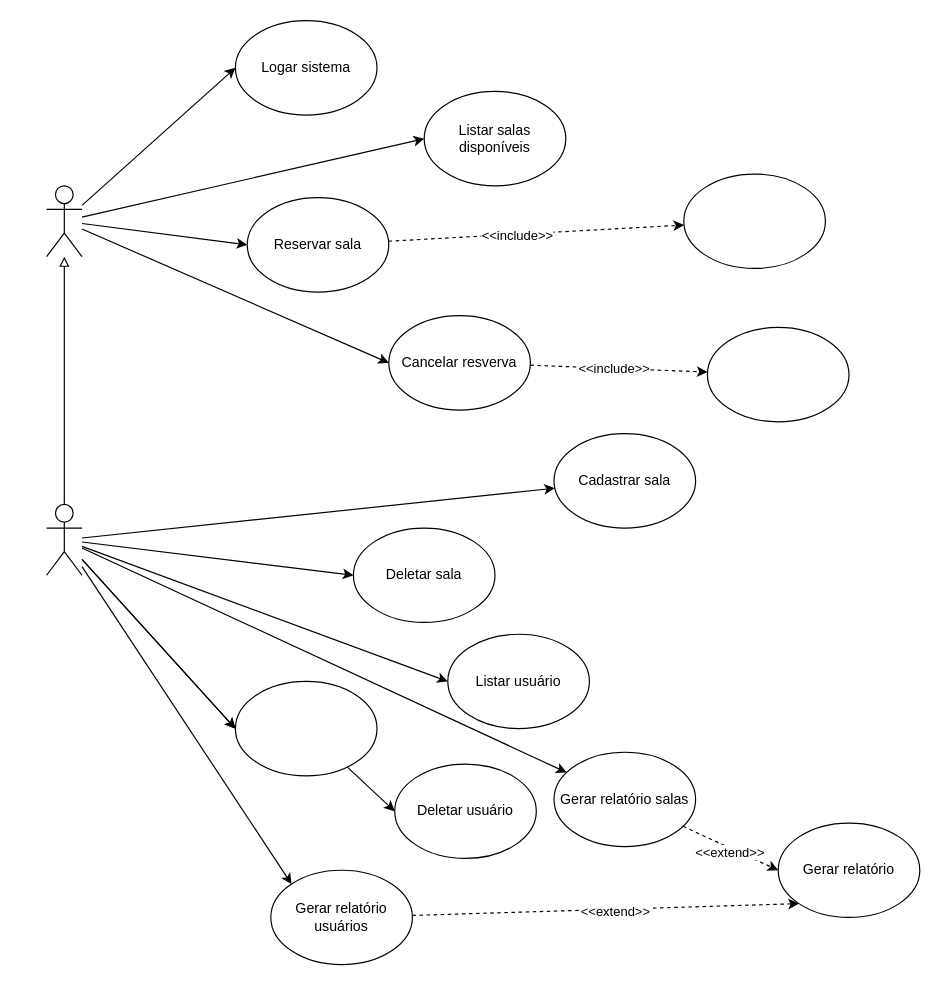
Image size: 940x985. Some labels were removed from this diagram. The shapes that lost their labels are listed below. From the top down, each one's centre as x and y in pixels, then its label:
the point at 63,221: Usuário
the point at 754,220: Verificar status sala
the point at 777,374: Atualizar status sala
the point at 63,539: Administrador
the point at 305,728: Criar usuário
